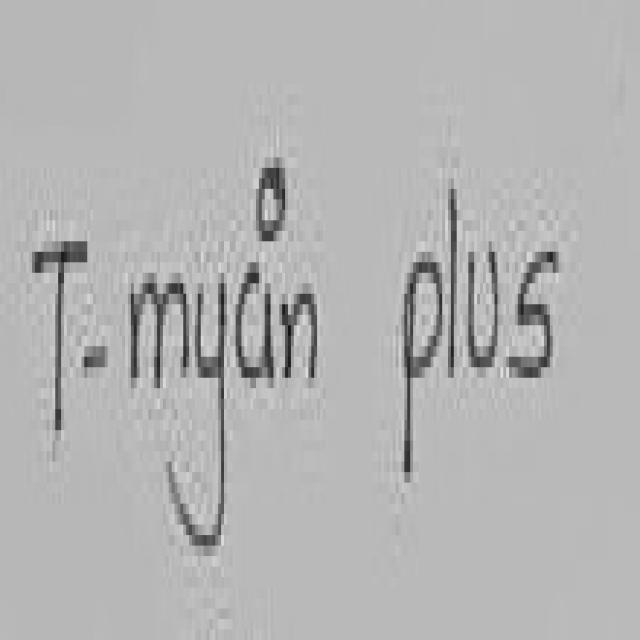T: (32, 241, 86, 425)
c: (235, 262, 263, 389)
i: (259, 168, 288, 241), (265, 294, 276, 388)
l: (451, 189, 460, 372)
m: (131, 283, 189, 388)
n: (282, 294, 320, 378)
p: (407, 262, 445, 477)
s: (512, 252, 561, 378)
u: (471, 252, 500, 367)
y: (169, 283, 227, 556)
